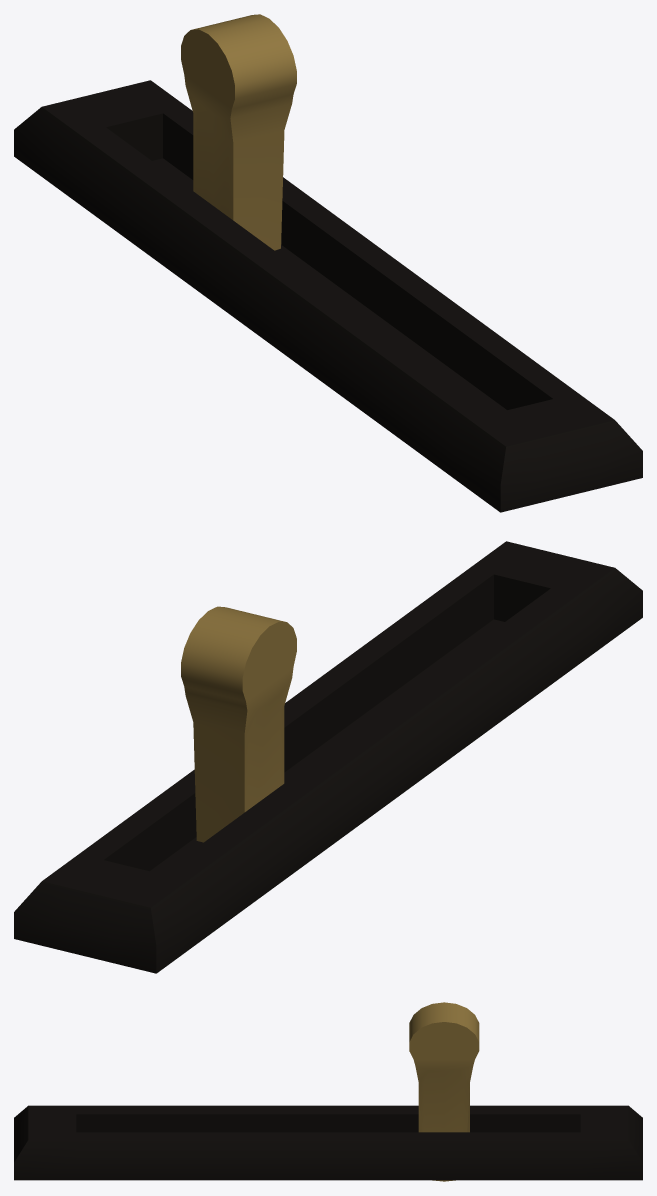
File: action_slide_01.FBX
The picture shows the model from 3 angles, top to bottom: view 1: azimuth 30°, elevation 25°; view 2: azimuth 150°, elevation 25°; view 3: azimuth 270°, elevation 25°; orthographic projection. The views are drawn at different scales.
Parts seen in each view (by area): view 1: Box021, Object003; view 2: Box021, Object003; view 3: Box021, Object003.
Boxes of the visible parts, x1,y1,x2,y2 form: Box021: [14, 80, 642, 512]; Object003: [181, 14, 296, 250]; Box021: [14, 541, 642, 973]; Object003: [181, 606, 296, 842]; Box021: [14, 1105, 642, 1180]; Object003: [409, 1002, 479, 1181].
Size of the model in its own units: 6.97 by 11.68 by 41.24.
